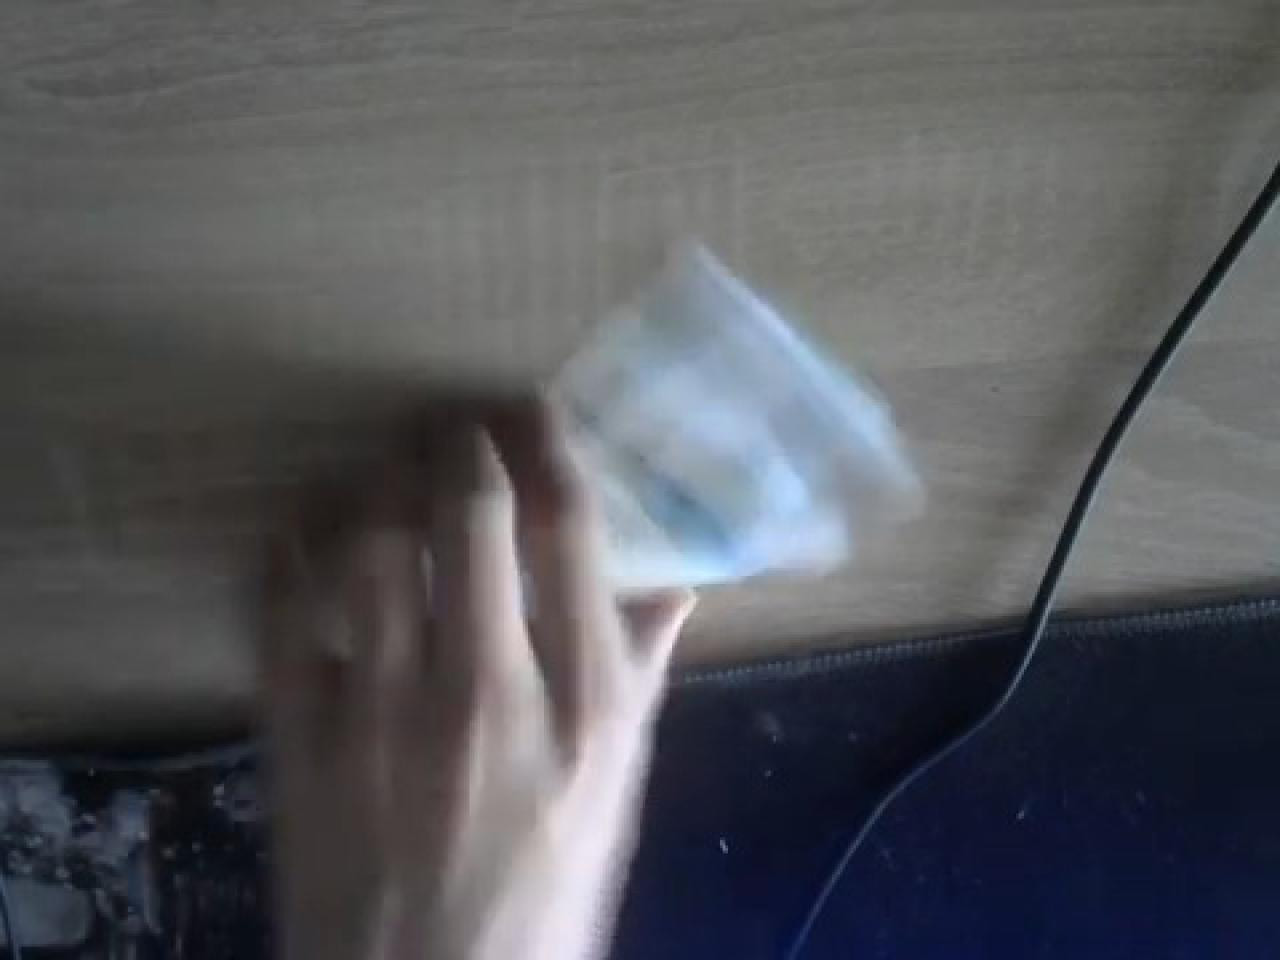20leva: (541, 237, 925, 592)
